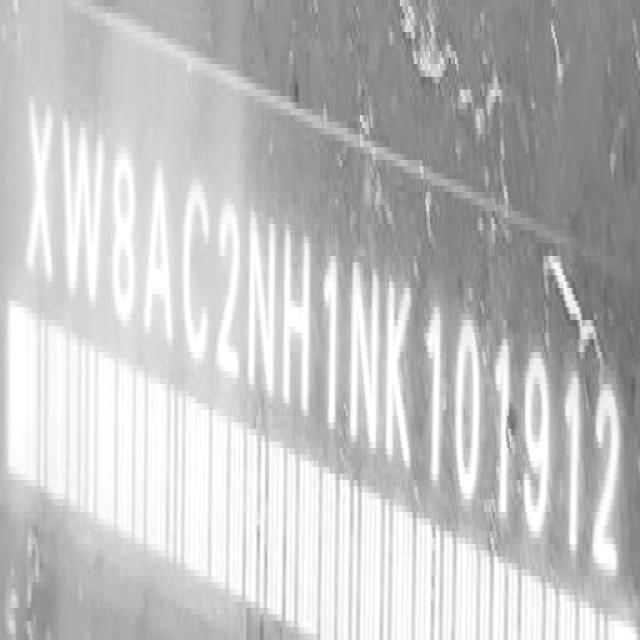0: (452, 308, 480, 512)
1: (494, 329, 518, 536), (560, 362, 582, 574), (425, 294, 444, 498), (322, 238, 340, 444)
2: (594, 380, 622, 588), (216, 190, 243, 391)
8: (113, 142, 138, 330)
9: (524, 343, 552, 557)
A: (141, 161, 174, 352)
C: (182, 174, 213, 373)
H: (283, 215, 315, 425)
K: (385, 273, 413, 469)
N: (348, 252, 382, 462), (248, 204, 276, 408)
W: (60, 109, 104, 317)
X: (24, 93, 54, 302)
